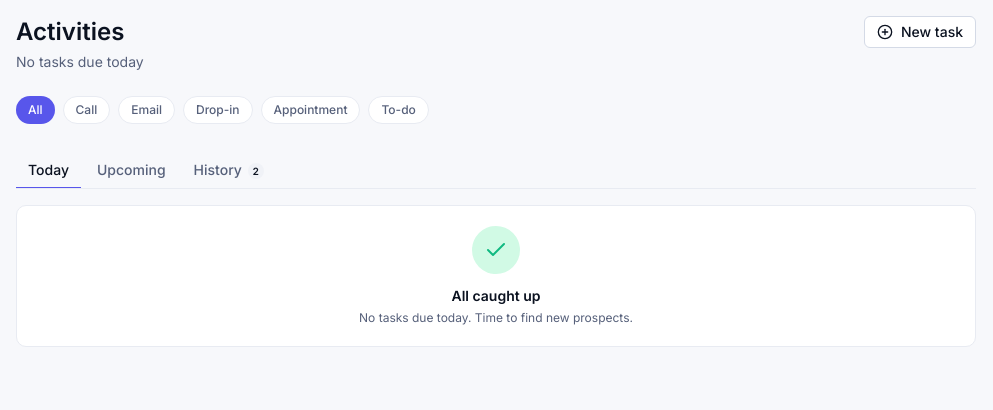
Test: ActivitiesPage / History tab reflects current data › renders the History tab with one row per cached activity
This screenshot has width=993, height=410.
# Radix Tabs uses pointer events, not React synthetic clicks.
Click the tab "History 2": click(229, 170) x1=182 y1=152 x2=276 y2=188
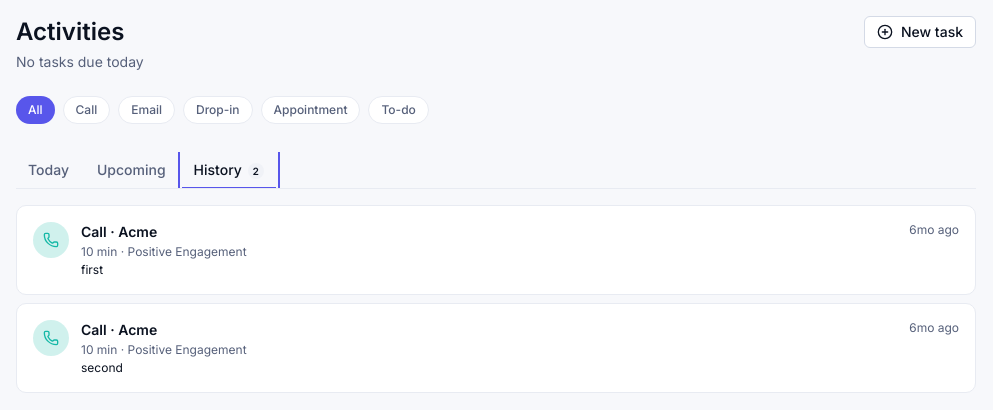
Result: the text "Call · Acme" is shown 2 times at x1=81 y1=223 x2=157 y2=240; x1=81 y1=321 x2=157 y2=338
Result: the text "first" is shown at x1=81 y1=262 x2=103 y2=277
Result: the text "second" is shown at x1=81 y1=360 x2=123 y2=375
